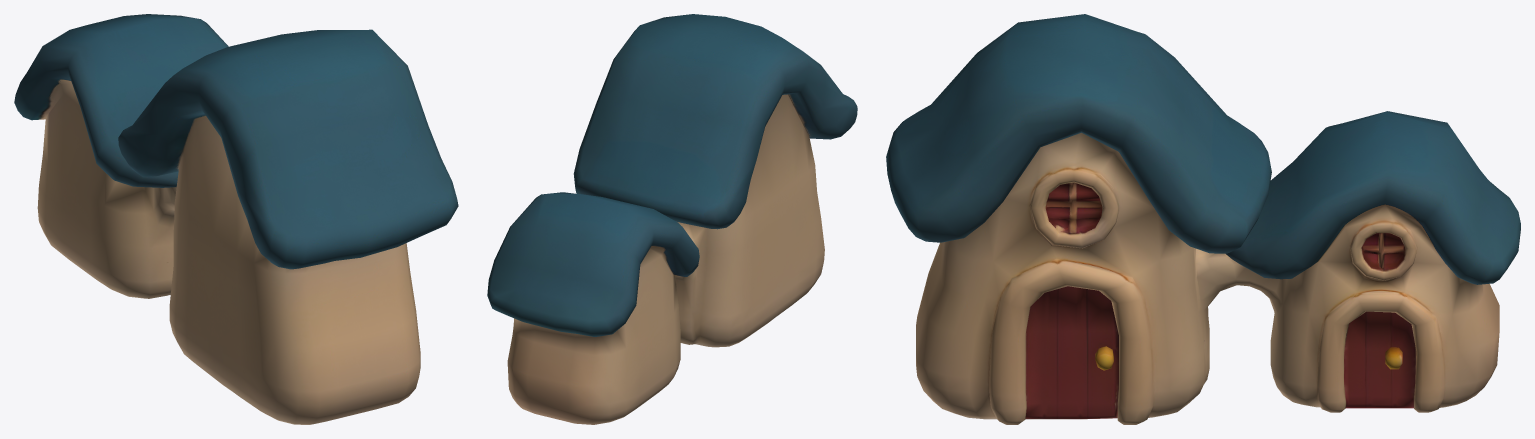
Rendered from 相连双屋拱顶小屋-2.glb.
The picture shows the model from 3 angles, left to right: view 1: azimuth 30°, elevation 25°; view 2: azimuth 150°, elevation 25°; view 3: azimuth 270°, elevation 25°; orthographic projection. The views are drawn at different scales.
Parts seen in each view (by area): view 1: tripo_node_70a455fe-b096-491f-b7f9-dd24ebd65eac; view 2: tripo_node_70a455fe-b096-491f-b7f9-dd24ebd65eac; view 3: tripo_node_70a455fe-b096-491f-b7f9-dd24ebd65eac.
Part boxes in pixels (x1,y1,x2,y2): tripo_node_70a455fe-b096-491f-b7f9-dd24ebd65eac: [14, 14, 458, 424]; tripo_node_70a455fe-b096-491f-b7f9-dd24ebd65eac: [487, 14, 857, 424]; tripo_node_70a455fe-b096-491f-b7f9-dd24ebd65eac: [886, 14, 1520, 424].
Bounding box in the file's own units: 0.3796 × 0.593 × 0.998.
1 material, 1 textured.
